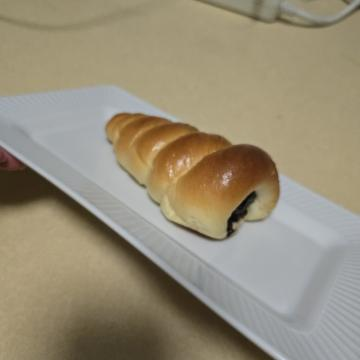cream horn: (98, 73, 256, 272)
